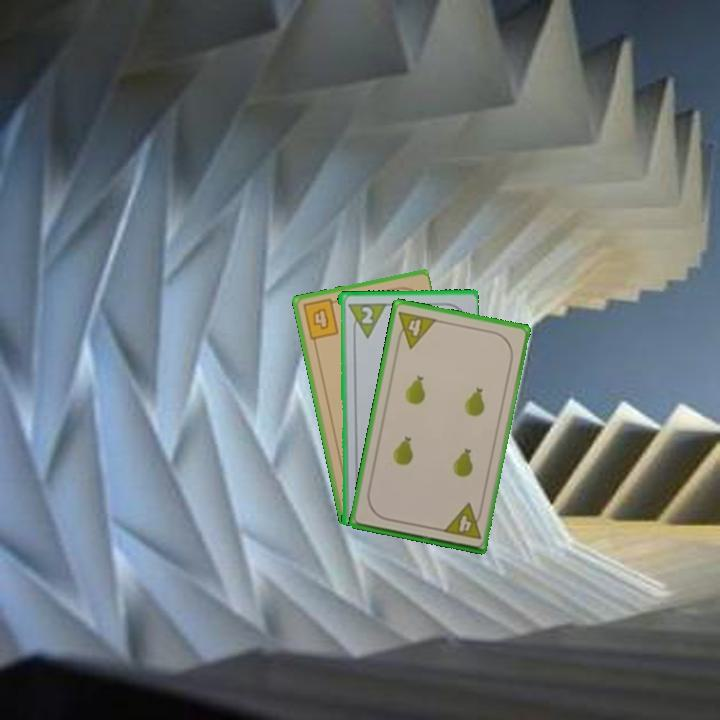2p: (358, 303, 375, 326)
4b: (299, 295, 342, 342)
4p: (392, 307, 439, 351), (439, 500, 485, 542)
